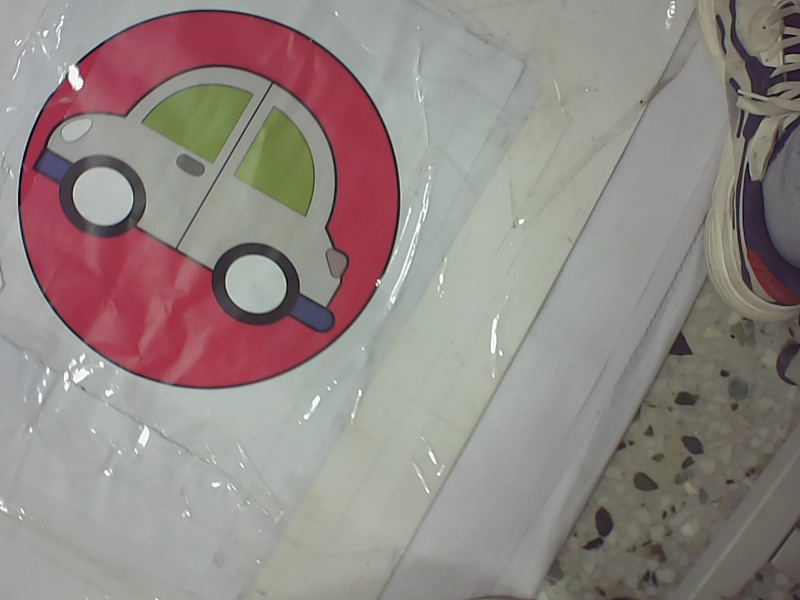areaC: (22, 7, 413, 402)
